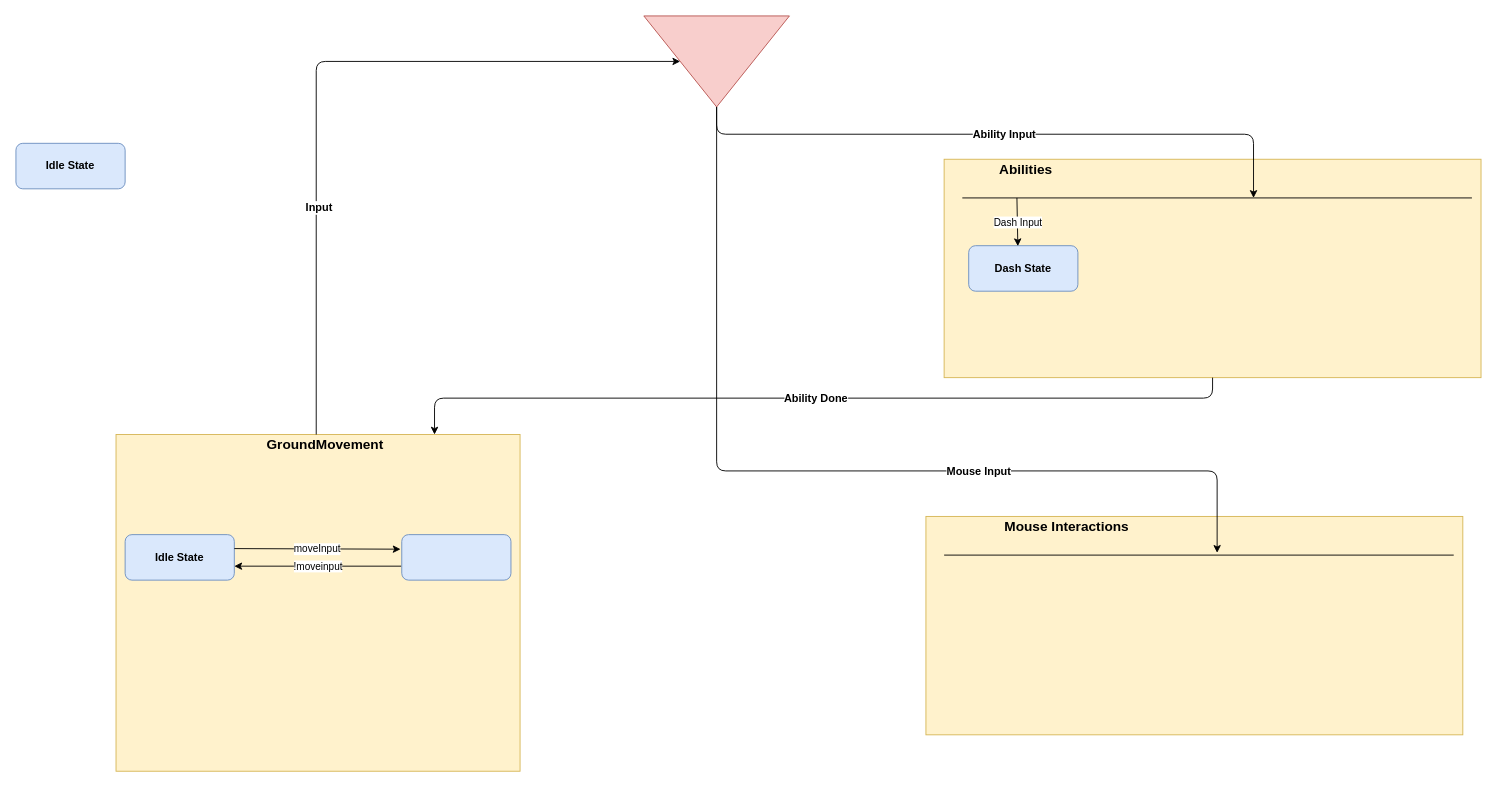
This 1497x787 diagram has some shape labels left out. Here are the shapes that lost their labels. From the top down, the centre of each, then its label:
point 716,61: Input Handler
point 456,557: Move State
